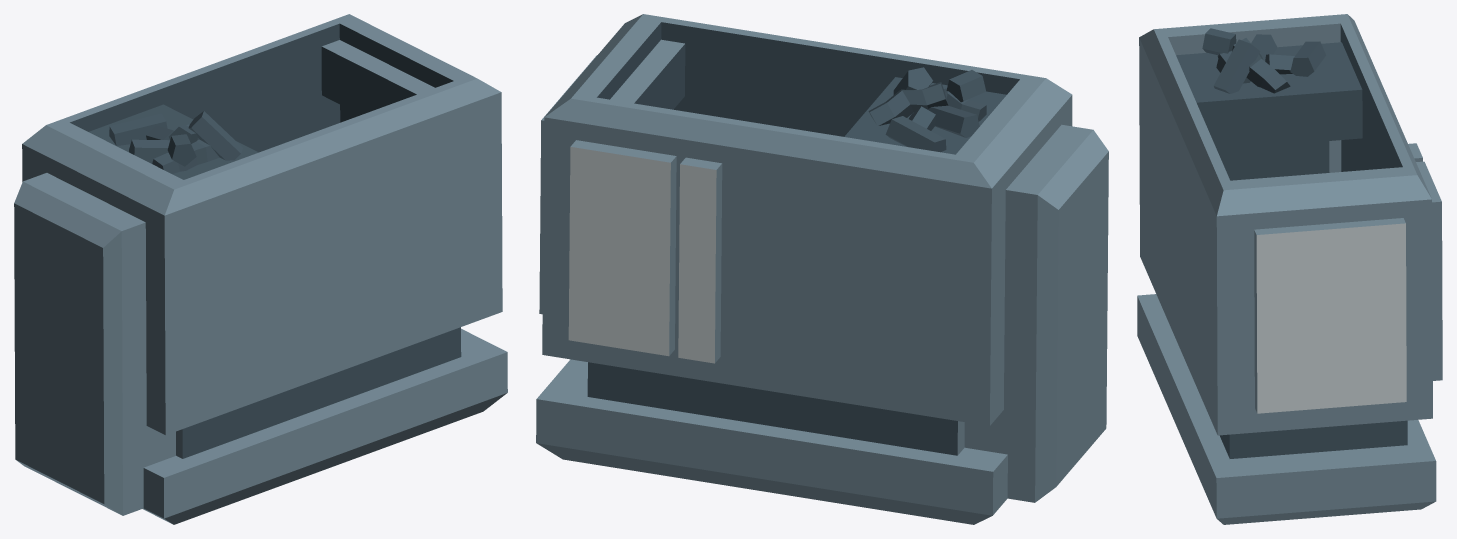
The model's file is counter.glb.
3 views of the same model, side by side, from view 1: azimuth 30°, elevation 25°; view 2: azimuth 150°, elevation 25°; view 3: azimuth 270°, elevation 25° (orthographic). The views are drawn at different scales.
Parts seen in each view (by area): view 1: counter; view 2: counter; view 3: counter.
Boxes of the visible parts, bbox=[...] form: counter: bbox=[14, 14, 507, 524]; counter: bbox=[536, 14, 1108, 524]; counter: bbox=[1137, 14, 1442, 524].
Bounding box in the file's own units: 1.09 × 0.8246 × 0.6414.
